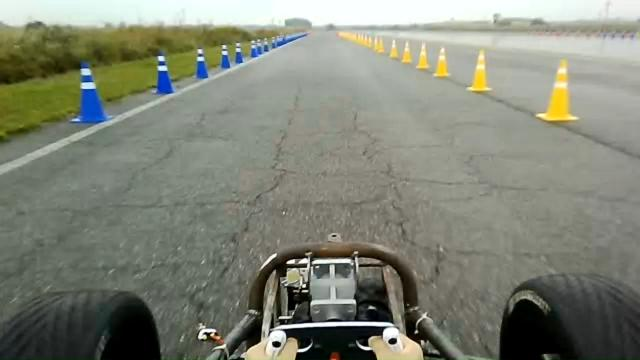blue cone: (70, 61, 112, 123), (151, 50, 175, 95), (195, 47, 208, 79), (220, 43, 230, 69), (234, 41, 244, 64), (250, 40, 258, 57)
yellow cone: (535, 59, 580, 122), (466, 48, 492, 92), (434, 47, 449, 77), (416, 42, 429, 69), (401, 41, 412, 63), (388, 39, 398, 59), (376, 35, 385, 53)
